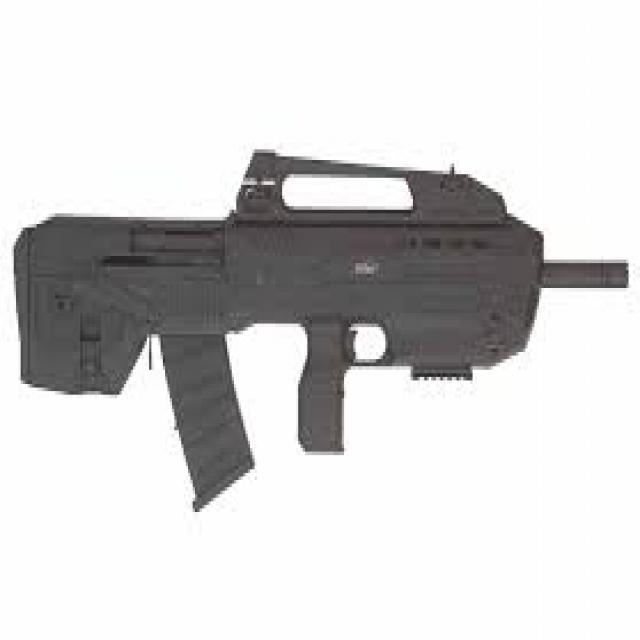long weapon: (11, 152, 629, 464)
